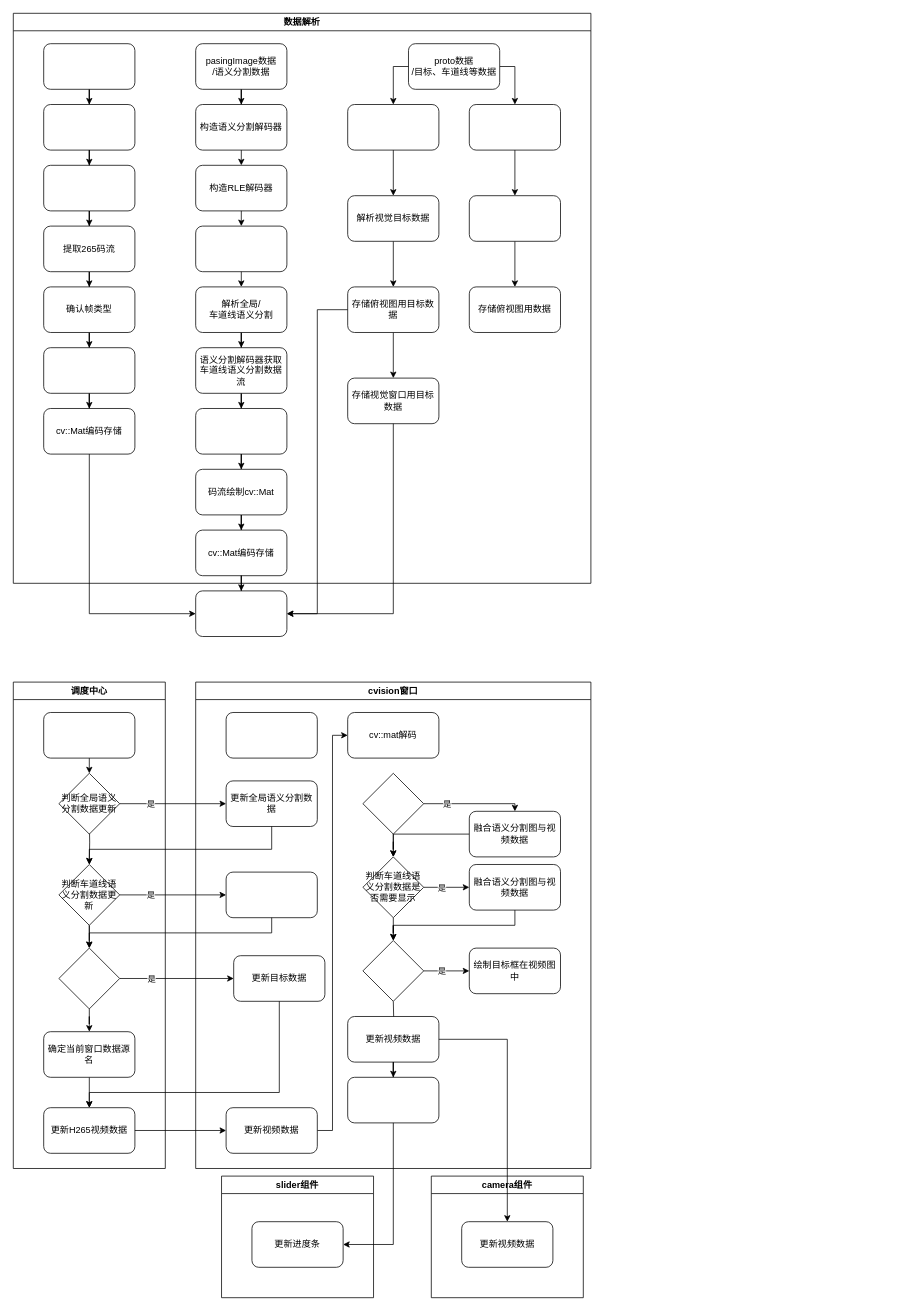
The diagram is 908 pixels wide and 1311 high, and some of its shapes have lost their labels. The centre of each missing label's shape, as x and y in pixels:
cVision调度: pixel 89 735
ffmpeg解析出mat: pixel 89 370
freespace解析器 /视觉解析器: pixel 514 127
rawImage数据 /265数据: pixel 89 66
RLE解码器解码: pixel 241 431
初始化camera模块 初始化slider模块: pixel 271 735
判断全局语义分割数据是否需要显示: pixel 393 803
判断目标数据是否需要显示: pixel 393 970
判断目标框图数据局更新: pixel 89 978
数据中心: pixel 241 613
更新车道线语义分割数据: pixel 271 894
构造ffmpeg解析器: pixel 89 127
目标车道线解析器: pixel 393 127
离线模式更新进度条: pixel 393 1100
视觉解析器 在线模式抽帧: pixel 241 248
视频解析器: pixel 89 188
解析视觉freespace数据: pixel 514 218
